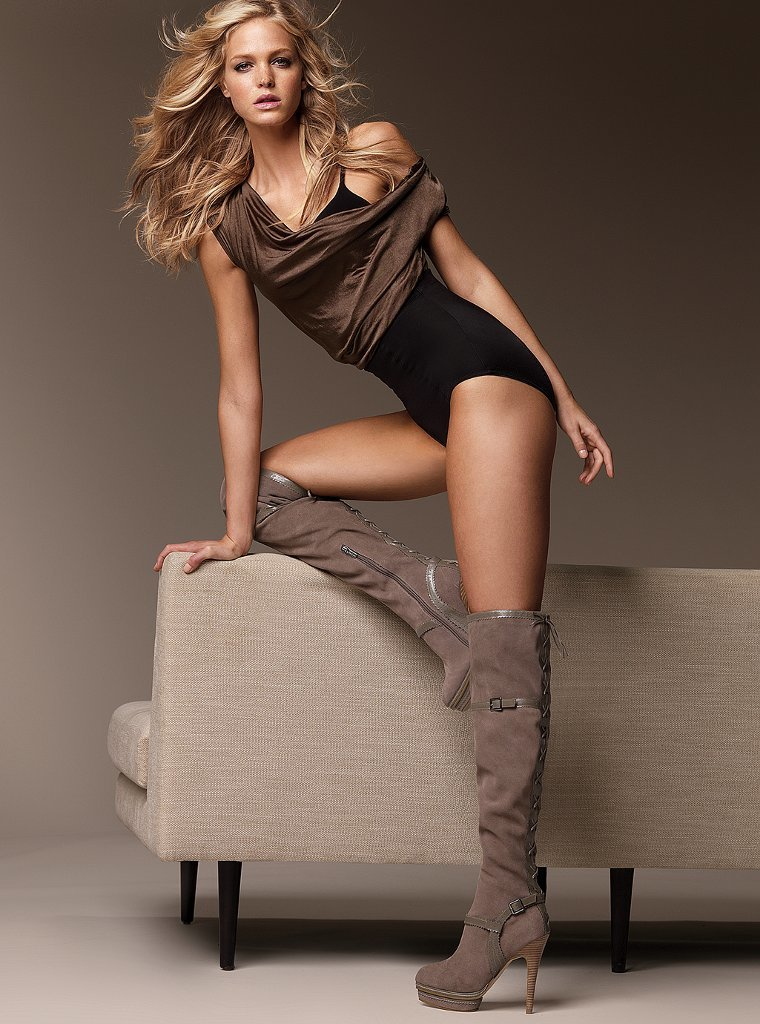Human-face: (219, 17, 309, 119)
